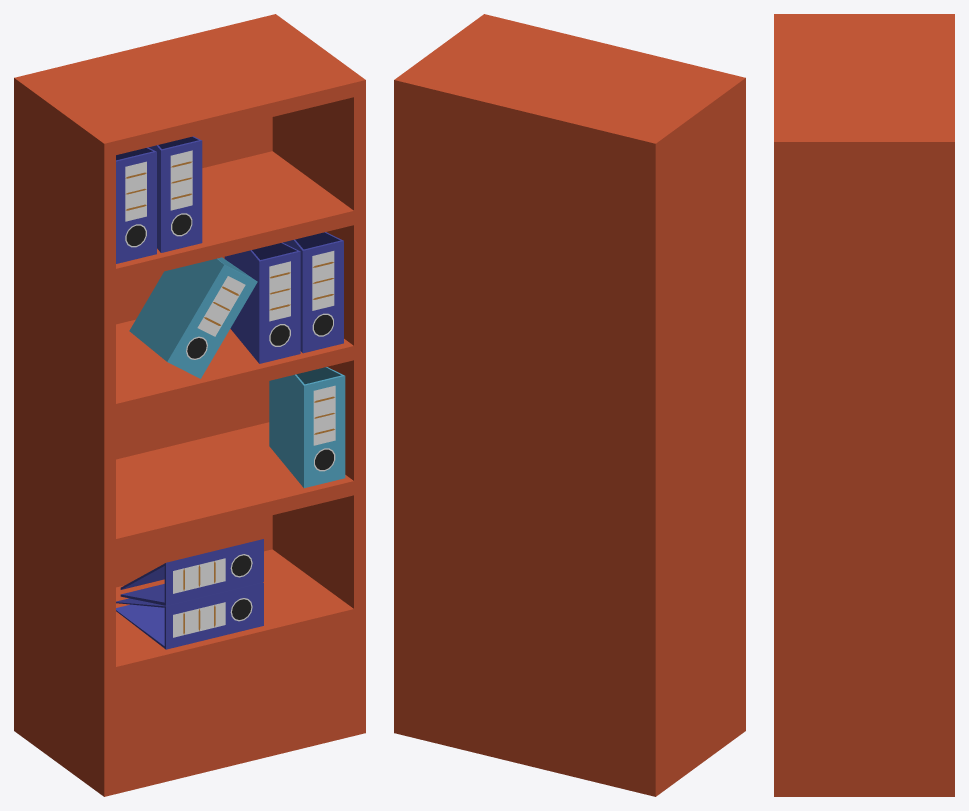
The model's file is bookshelf2.fbx.
3 renders of one model, left to right at view 1: azimuth 30°, elevation 25°; view 2: azimuth 150°, elevation 25°; view 3: azimuth 270°, elevation 25°, orthographic.
Visible parts, largest first — view 1: bookshelf2; view 2: bookshelf2; view 3: bookshelf2.
Boxes of the visible parts, x1=… form: bookshelf2: x1=14, y1=14, x2=365, y2=796; bookshelf2: x1=394, y1=14, x2=745, y2=796; bookshelf2: x1=774, y1=14, x2=954, y2=796.
Bounding box in the file's own units: 115 × 274 × 68.6.
